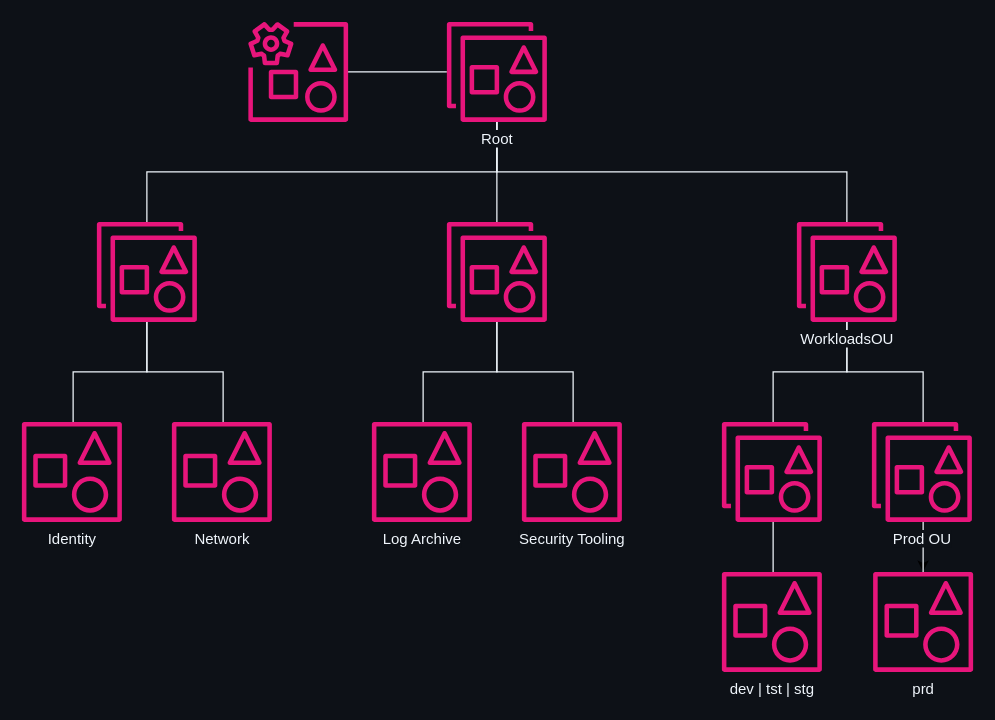
The diagram is 995 pixels wide and 720 high, and some of its shapes have lost their labels. Here are the shapes that lost their labels. From the top down, the box of each, then its label:
(247, 21, 348, 122): Management Account
(96, 221, 197, 322): Infrastructure OU
(446, 221, 547, 322): Security OU
(721, 421, 822, 522): NonProd OU
